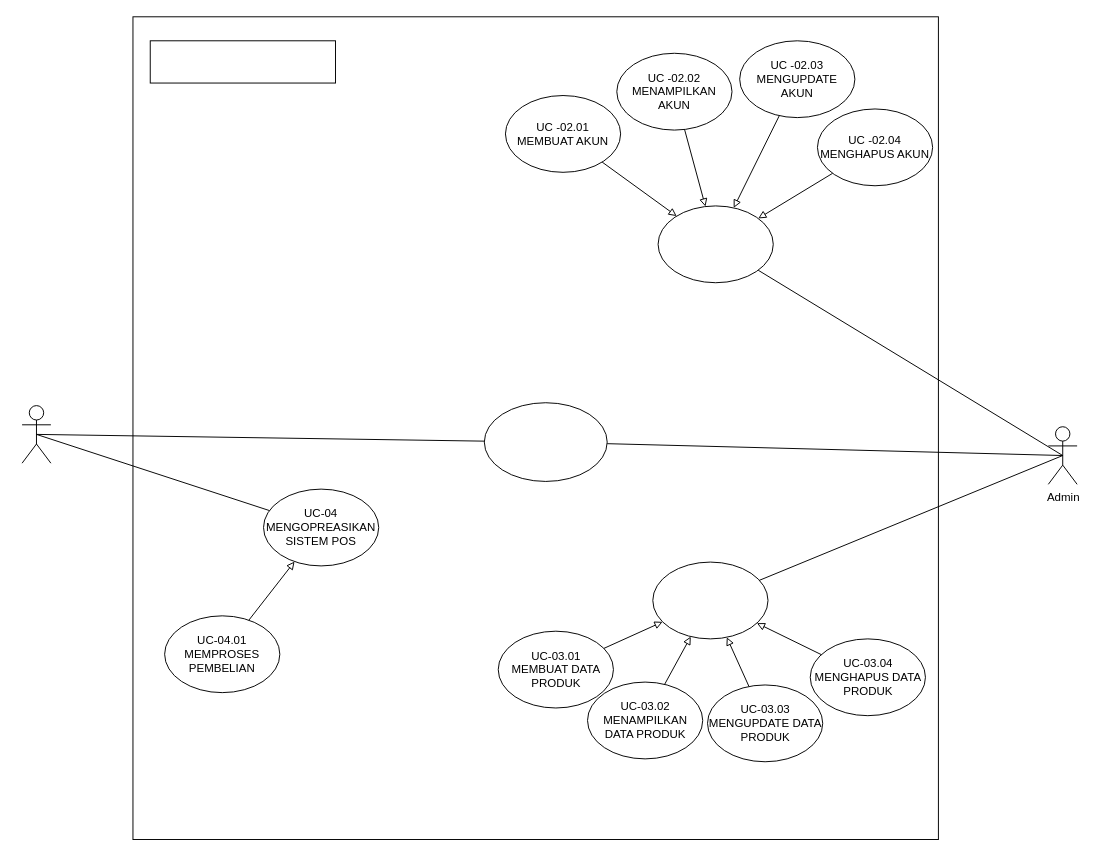
This 1095x856 diagram has some shape labels left out. The shapes that lost their labels are listed below. From the top down, each one's box as (x1, y1, x2, y2) in pixels, then its label:
(149, 40, 336, 83): POS SYSTEM TOKO SEPATU
(657, 205, 773, 283): UC-02 MENGELOLA AKUN
(21, 405, 51, 463): Cashier
(483, 402, 607, 481): UC-05 MENAMPILKAN HASIL TRANSAKSI
(652, 561, 768, 639): UC-03 MENGELOLA PRODUK
